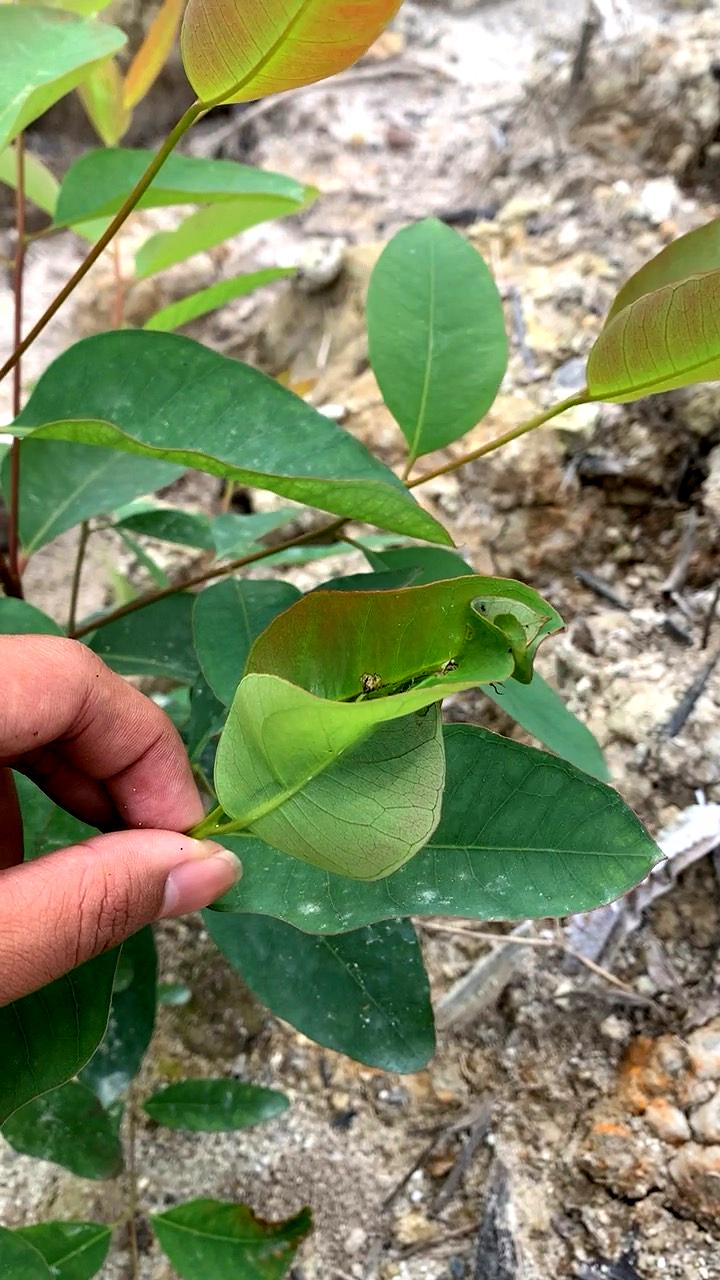Leaf Roller - Leaf: (203, 575, 581, 864)
